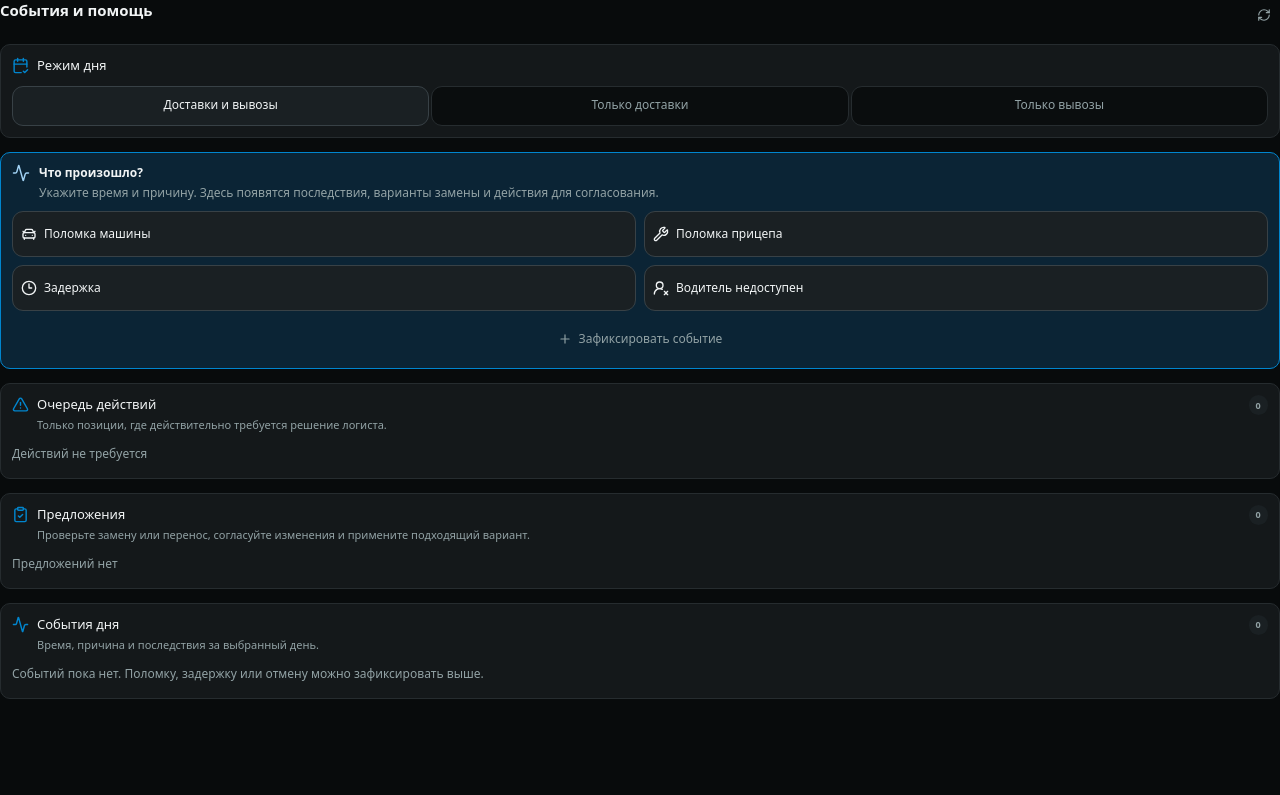
Test case: operational event capture › reports the actual automatic recovery result APPLIED and refreshes the plan only after application
Click the button "Поломка машины": (97, 234) [12,211,636,257]
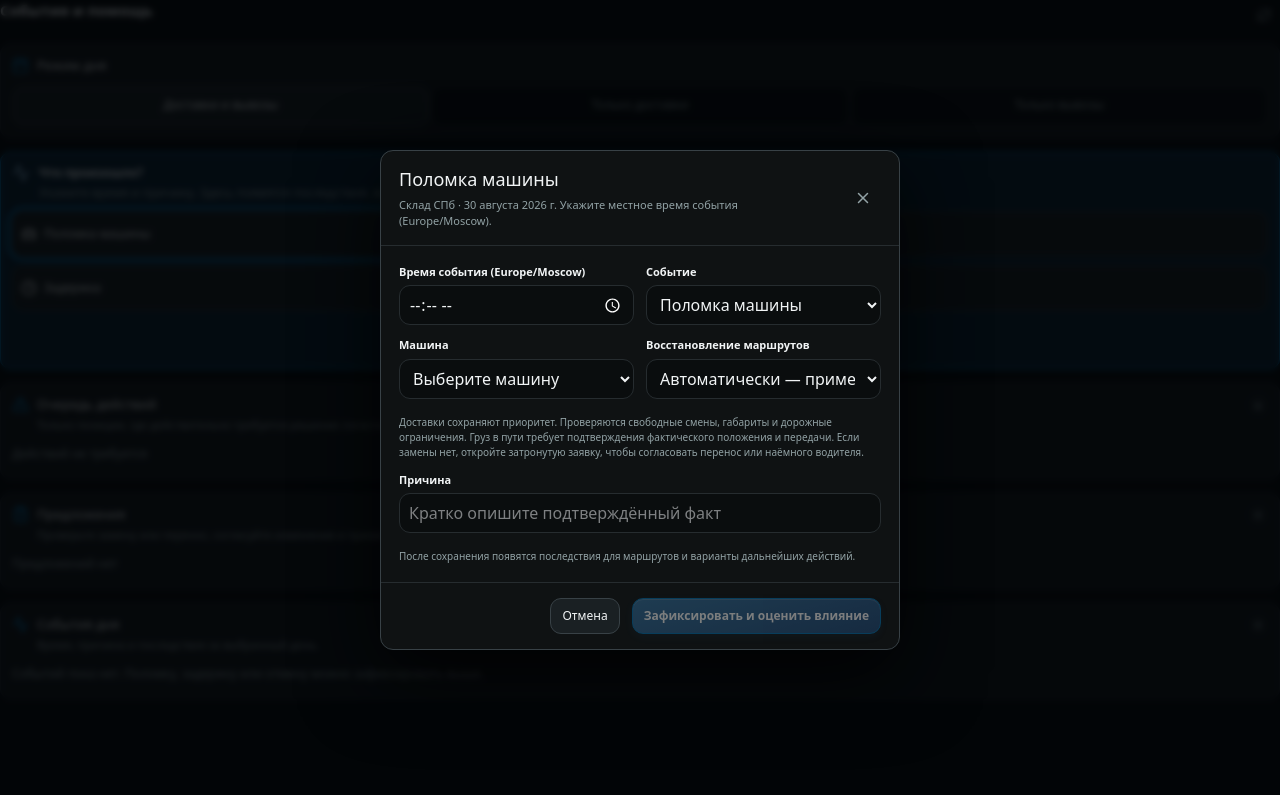
Select "МАЗ · А123БВ" in the dropdown labelled "Машина": (516, 379) [399,359,634,399]
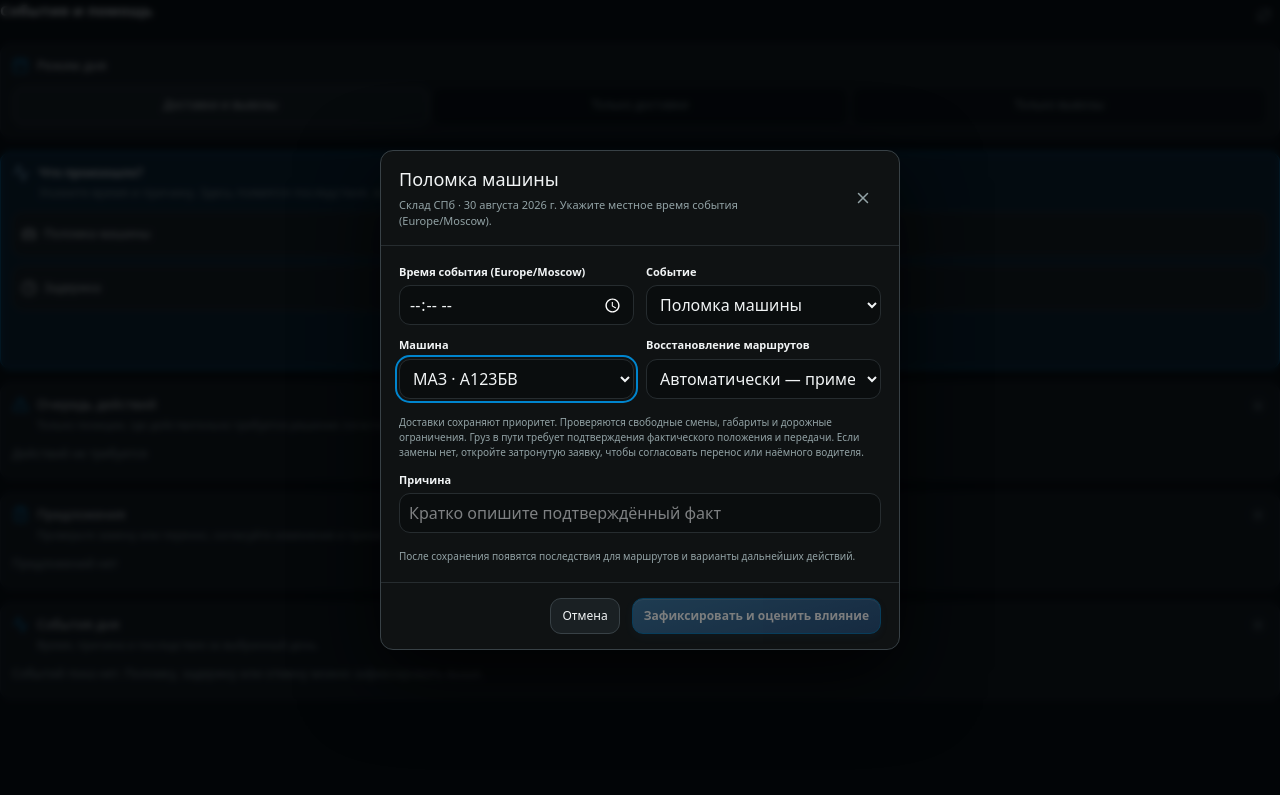
In the time field labelled "Время события (Europe/Moscow)": (516, 305) [399,285,634,325], type "12:30"
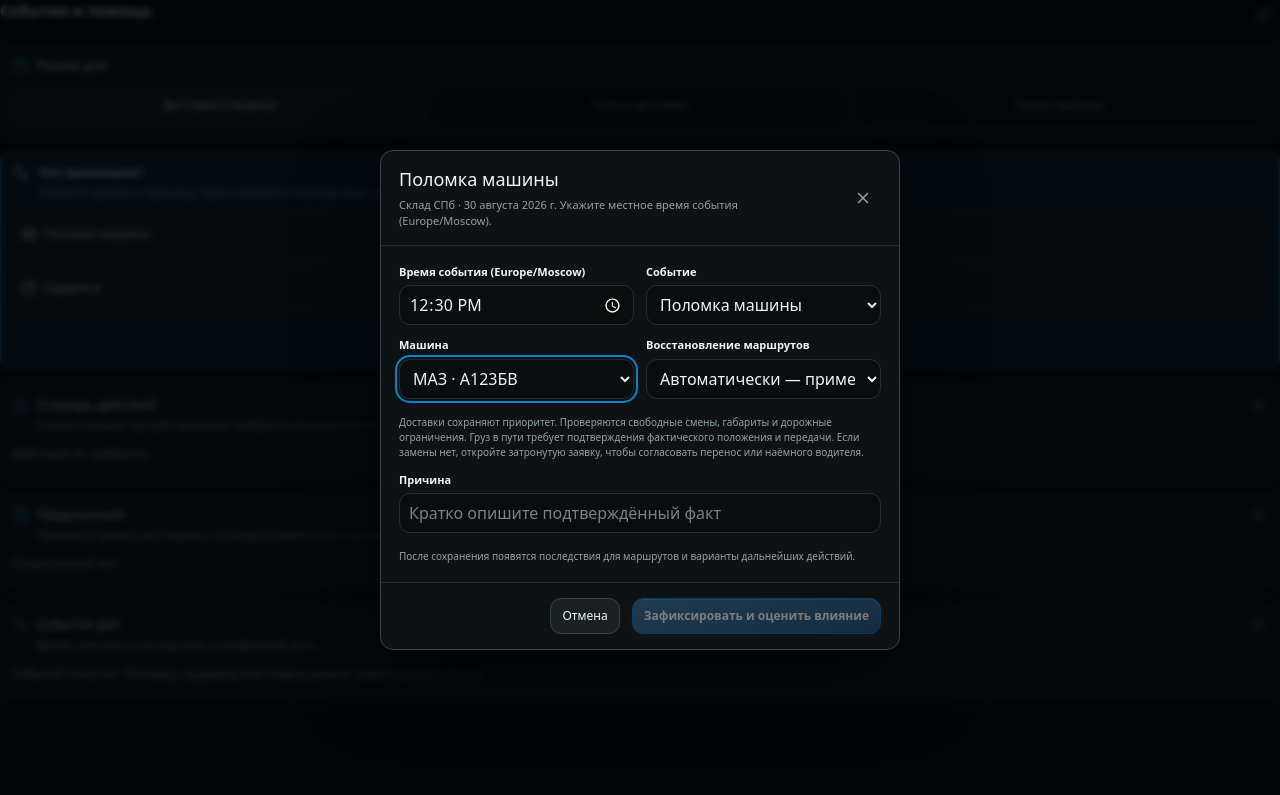
In the field labelled "Причина": (640, 513) [399,493,881,533], type "Поломка до выезда"
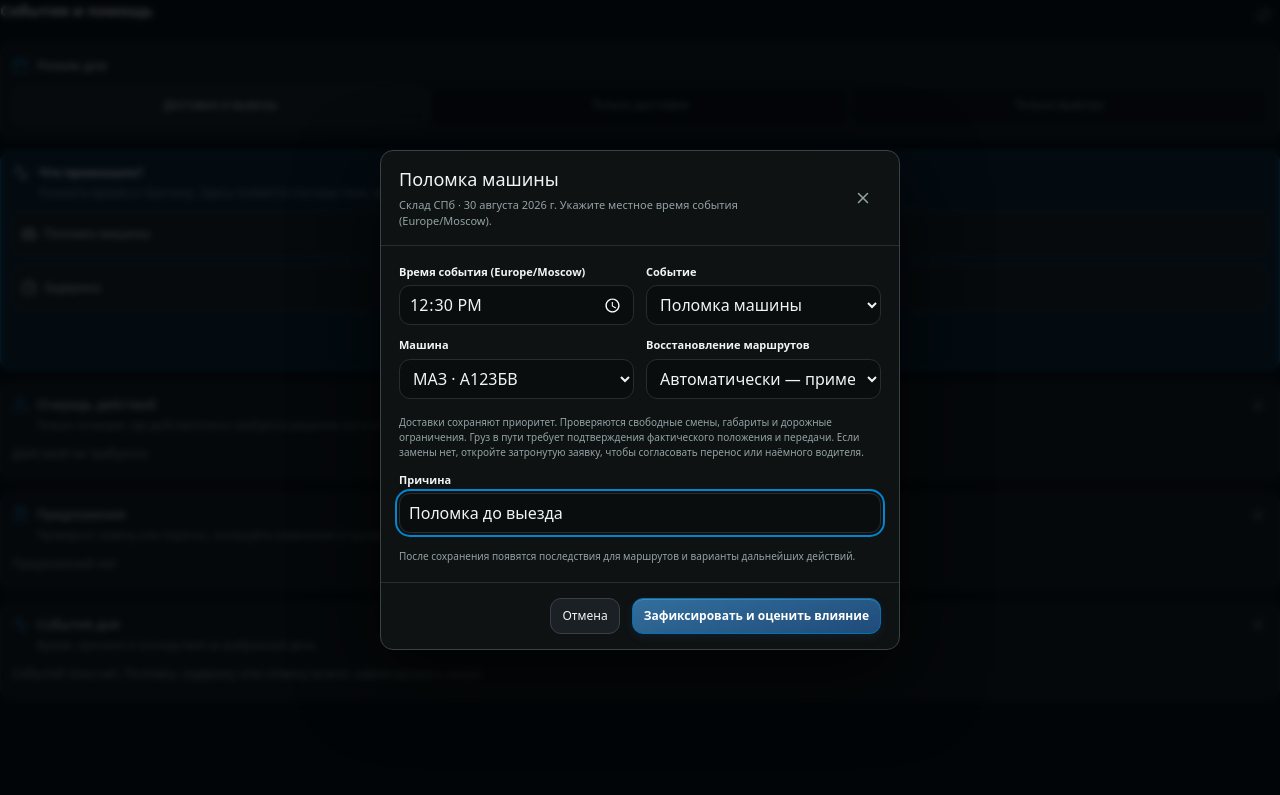
Click the button "Зафиксировать и оценить влияние": (756, 616) [632,598,881,634]
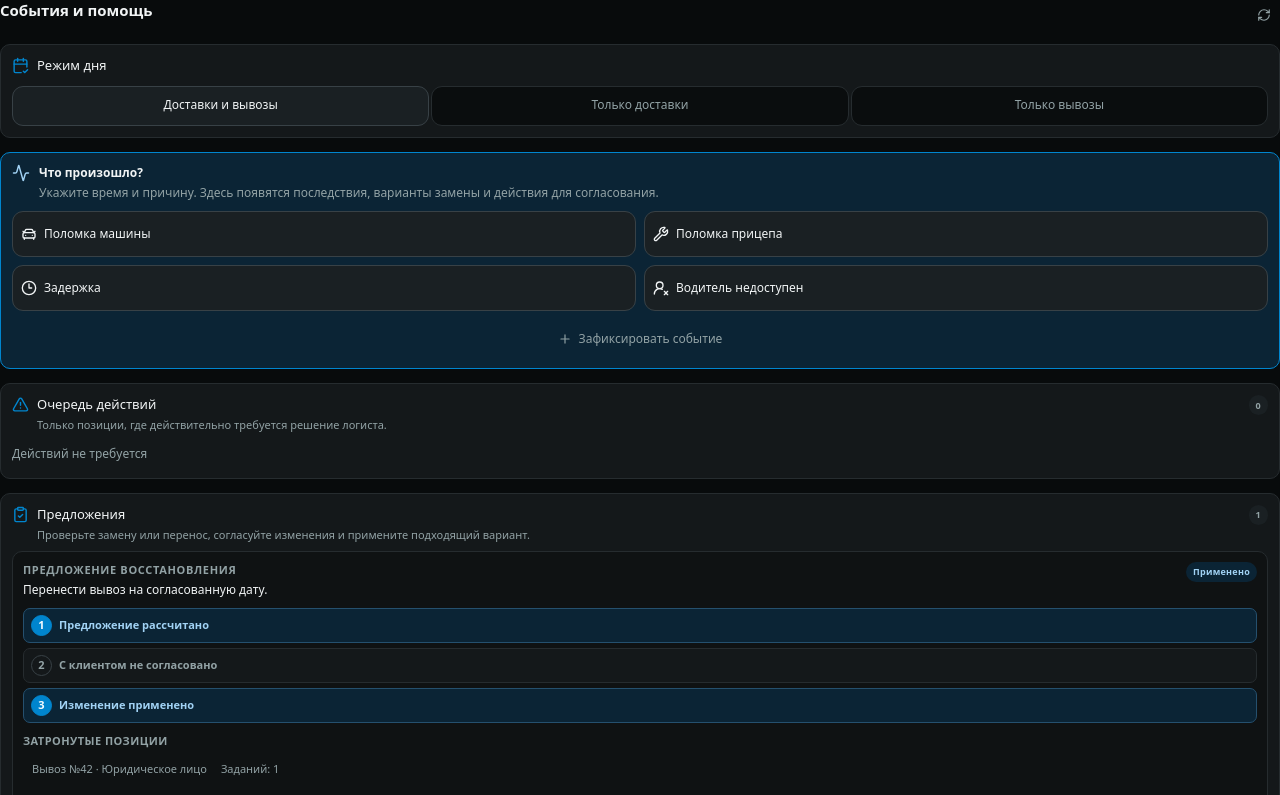
expect the dialog is gone: met
